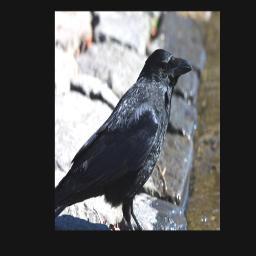Crow: (56, 48, 194, 230)
